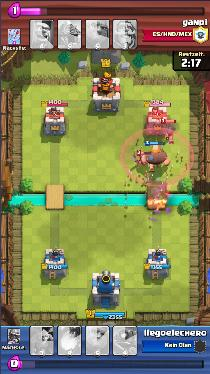ally_arrow: (121, 128, 194, 187)
ally_giant: (144, 145, 170, 171)
enemy_mini_pekka: (131, 154, 149, 166)
enemy_musketeer: (164, 127, 175, 143)
